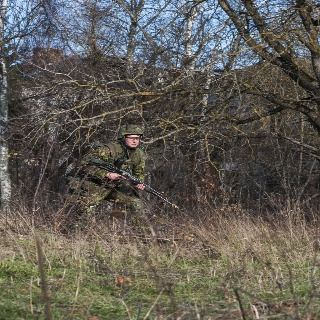rifle: (87, 154, 179, 212)
